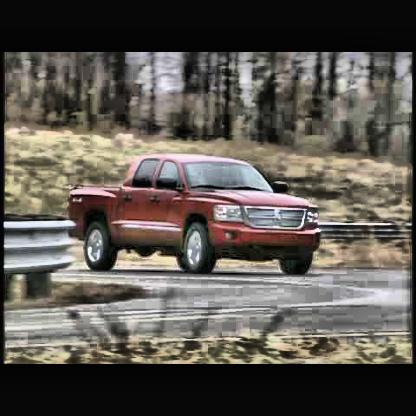Dodge Dakota Crew Cab 2010: (69, 155, 323, 279)
